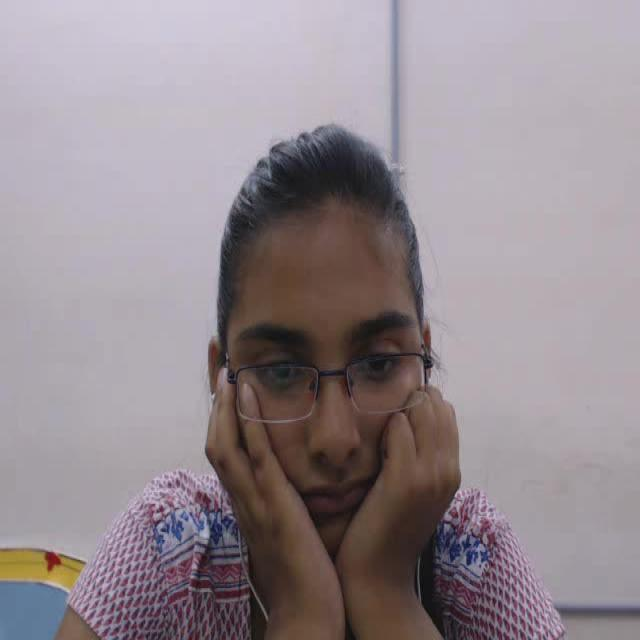Bored: (159, 100, 479, 640)
